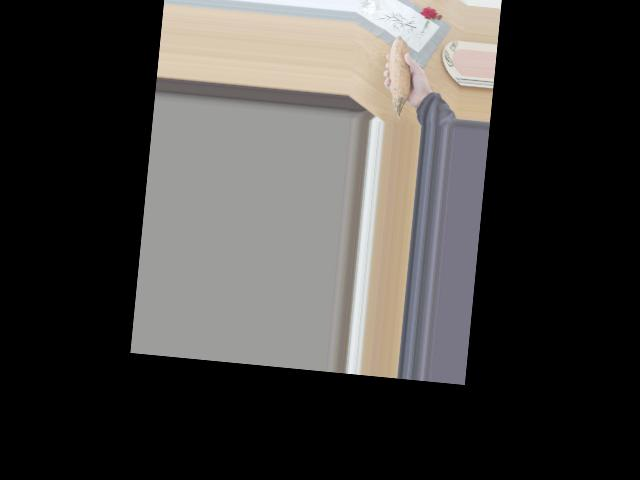sweet_potato: (381, 33, 422, 112)
